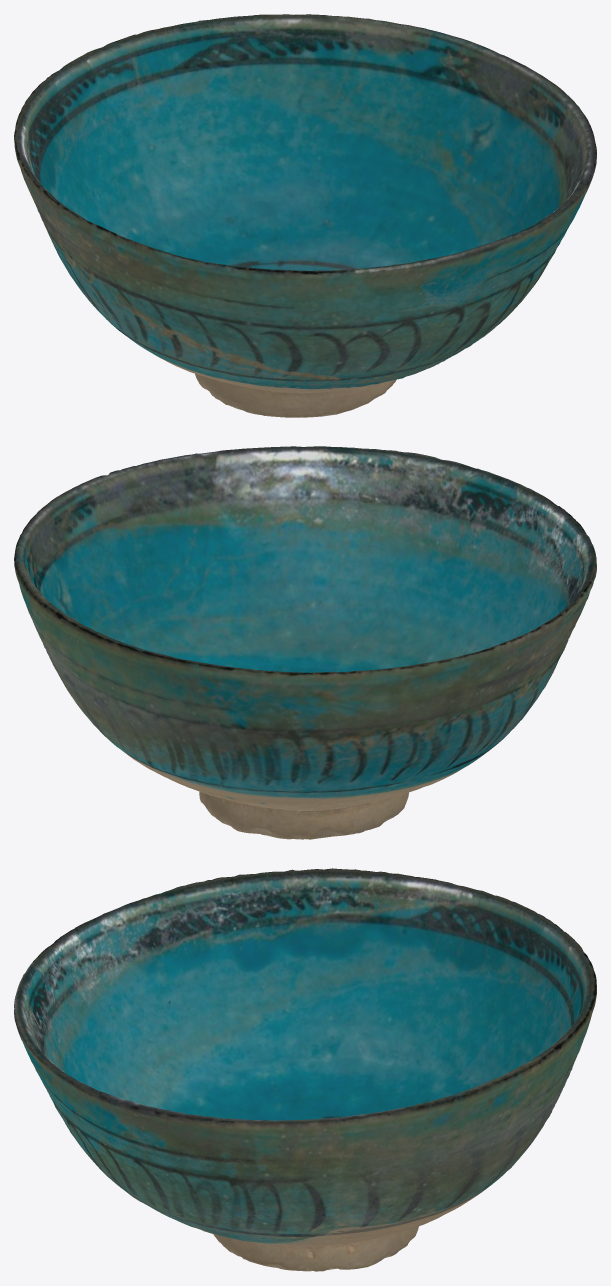
File: turkise_schale_mit_blume.glb
3 renders of one model, top to bottom at view 1: azimuth 30°, elevation 25°; view 2: azimuth 150°, elevation 25°; view 3: azimuth 270°, elevation 25°, orthographic.
Bounding box in the file's own units: 0.2133 × 0.0993 × 0.2124.
1 material, 1 textured.
